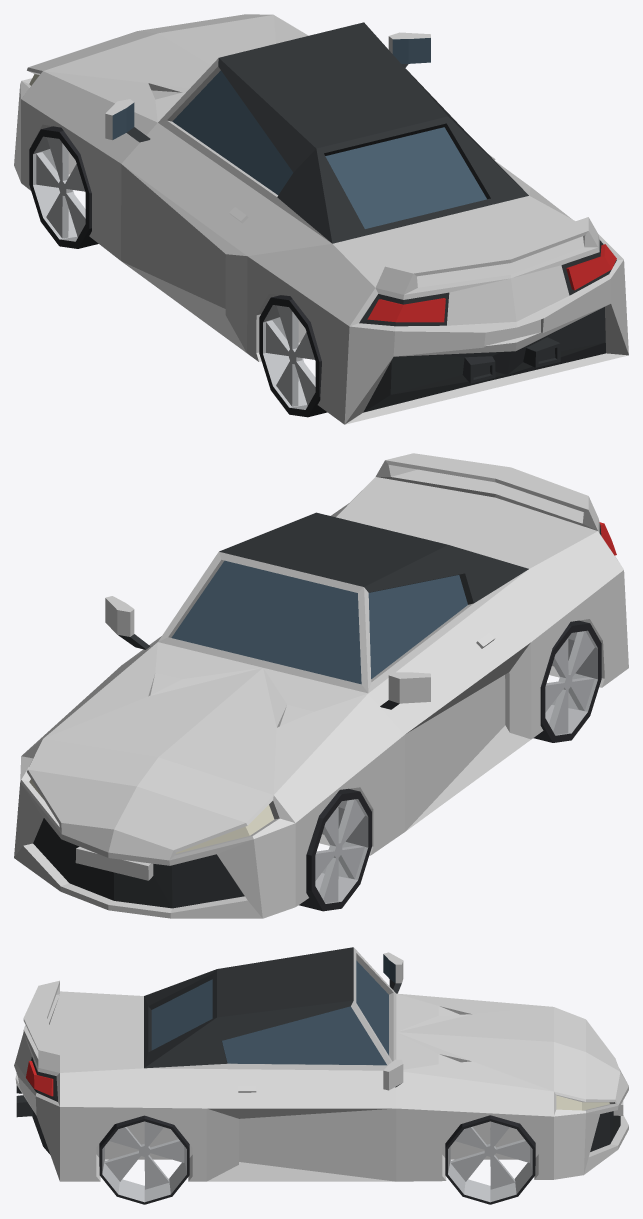
Rendered from supercar.glb.
3 renders of one model, top to bottom at view 1: azimuth 30°, elevation 25°; view 2: azimuth 150°, elevation 25°; view 3: azimuth 270°, elevation 25°, orthographic. The views are drawn at different scales.
Parts seen in each view (by area): view 1: Body, Wheel_FL, Wheel_RL; view 2: Body, Wheel_FL, Wheel_RL; view 3: Body, Wheel_FR, Wheel_RR.
Boxes of the visible parts, x1,y1,x2,y2 form: Body: (14,14,628,424); Wheel_FL: (29,126,98,248); Wheel_RL: (259,295,327,417); Body: (14,453,628,918); Wheel_FL: (299,788,371,911); Wheel_RL: (533,620,601,742); Body: (14,947,628,1181); Wheel_FR: (445,1115,535,1204); Wheel_RR: (99,1115,189,1204).
Bounding box in the file's own units: 2.63 × 1.84 × 5.73.
